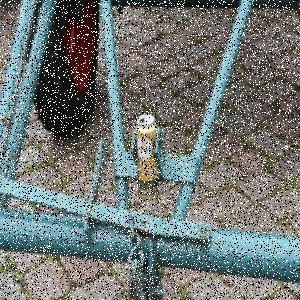Can: (136, 114, 160, 202)
